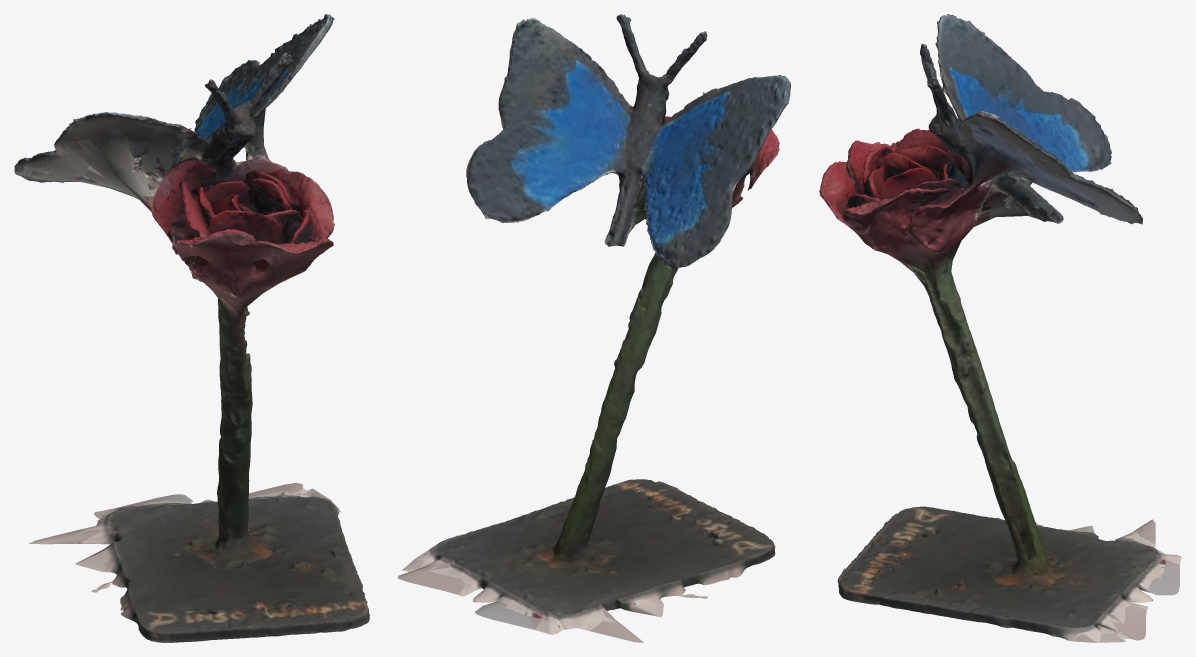
The model's file is piece-013.glb.
3 renders of one model, left to right at view 1: azimuth 30°, elevation 25°; view 2: azimuth 150°, elevation 25°; view 3: azimuth 270°, elevation 25°, orthographic. The views are drawn at different scales.
Visible parts, largest first — view 1: Mesh_0_Part_0; view 2: Mesh_0_Part_0; view 3: Mesh_0_Part_0.
Boxes of the visible parts, x1,y1,x2,y2 form: Mesh_0_Part_0: (14,14,369,642); Mesh_0_Part_0: (398,14,790,642); Mesh_0_Part_0: (819,14,1181,642).
Bounding box in the file's own units: 0.2406 × 0.3832 × 0.2493.
1 material, 1 textured.
